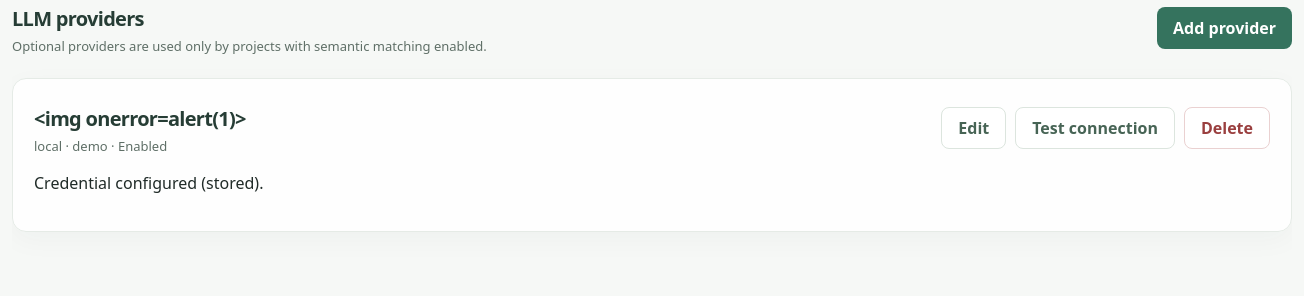
Test case: LLM settings › shows wrong-answer warnings from the connection test
Click the button "Test connection" at (1095, 128), box x1=1015 y1=107 x2=1175 y2=149
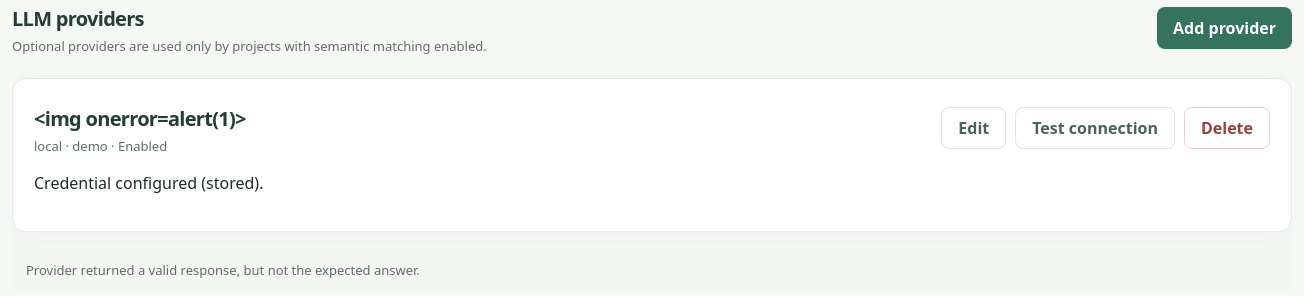
Check: the text "valid response, but not the expected answer" is shown, box x1=26 y1=261 x2=420 y2=279
